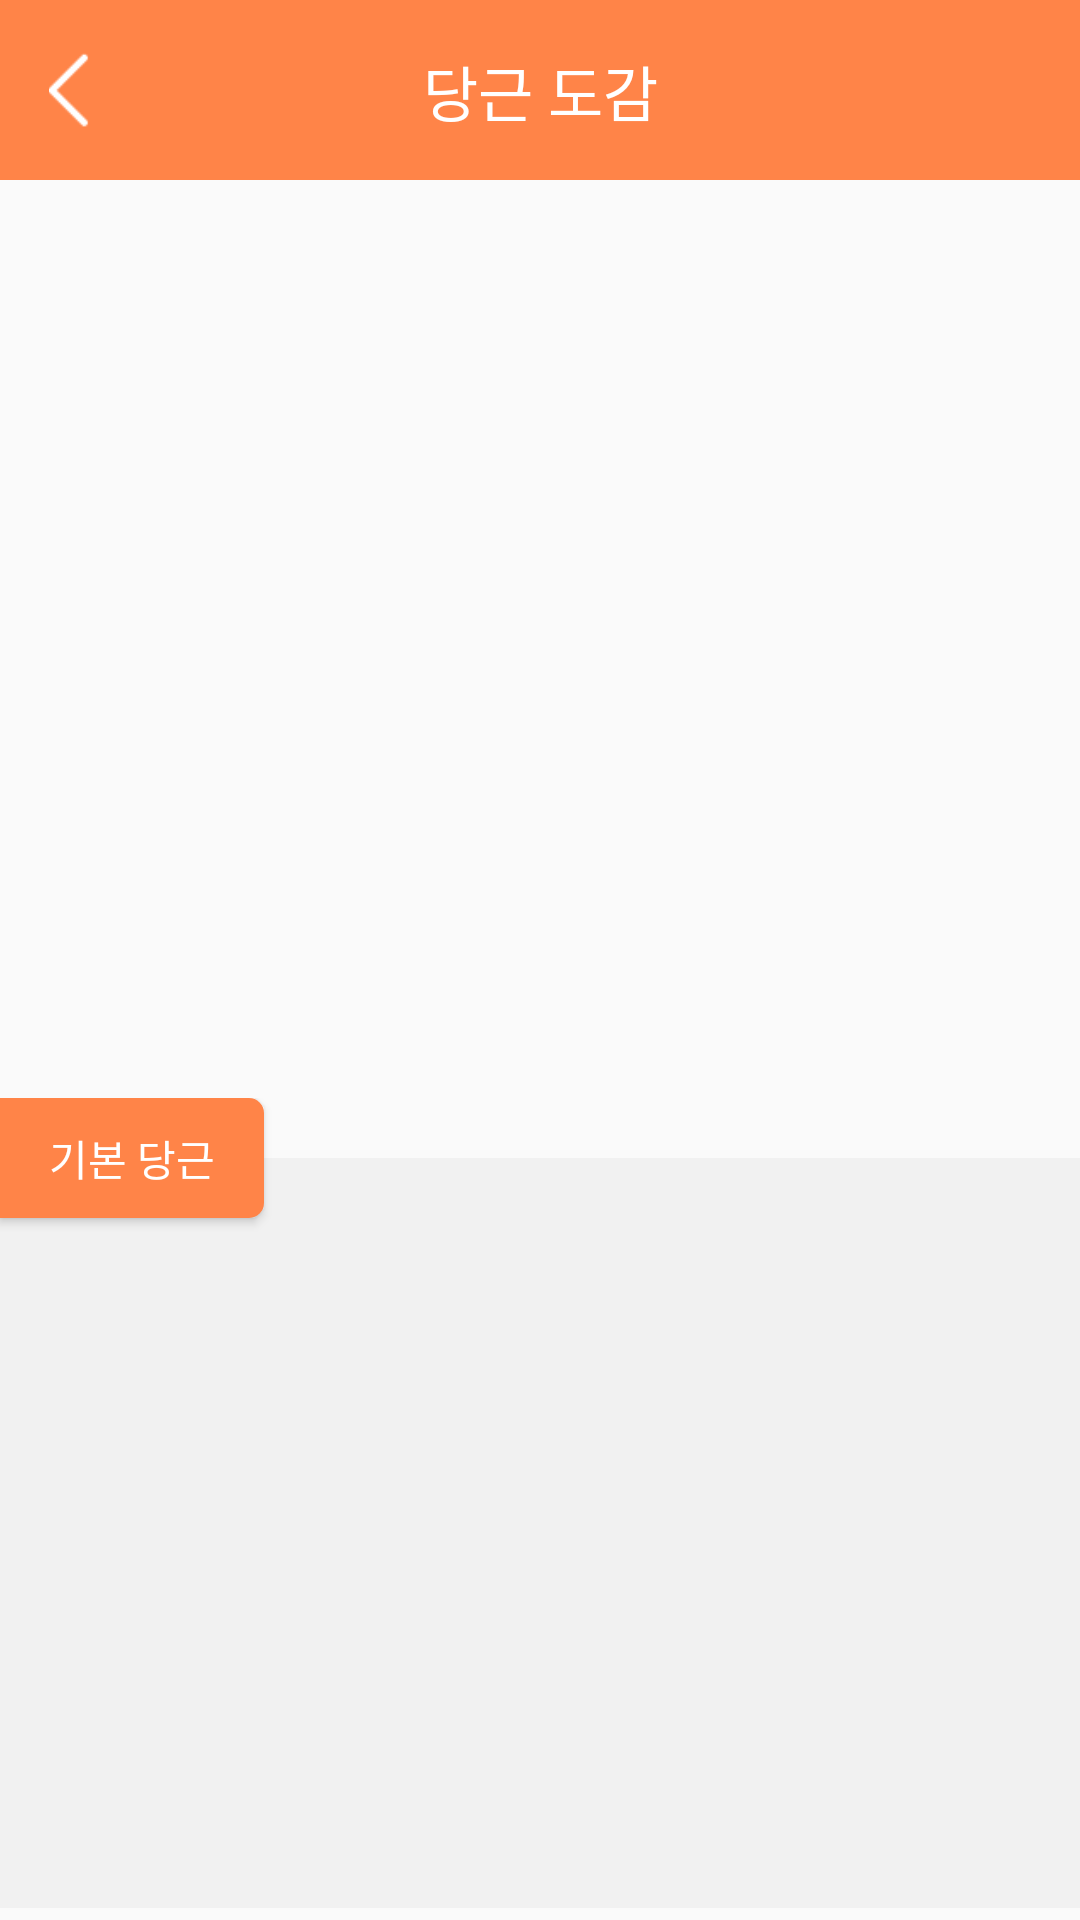

Icon click points for this 1080 × 1920 phone screenshot, format (x=x, y=y):
left: (x=68, y=90)
